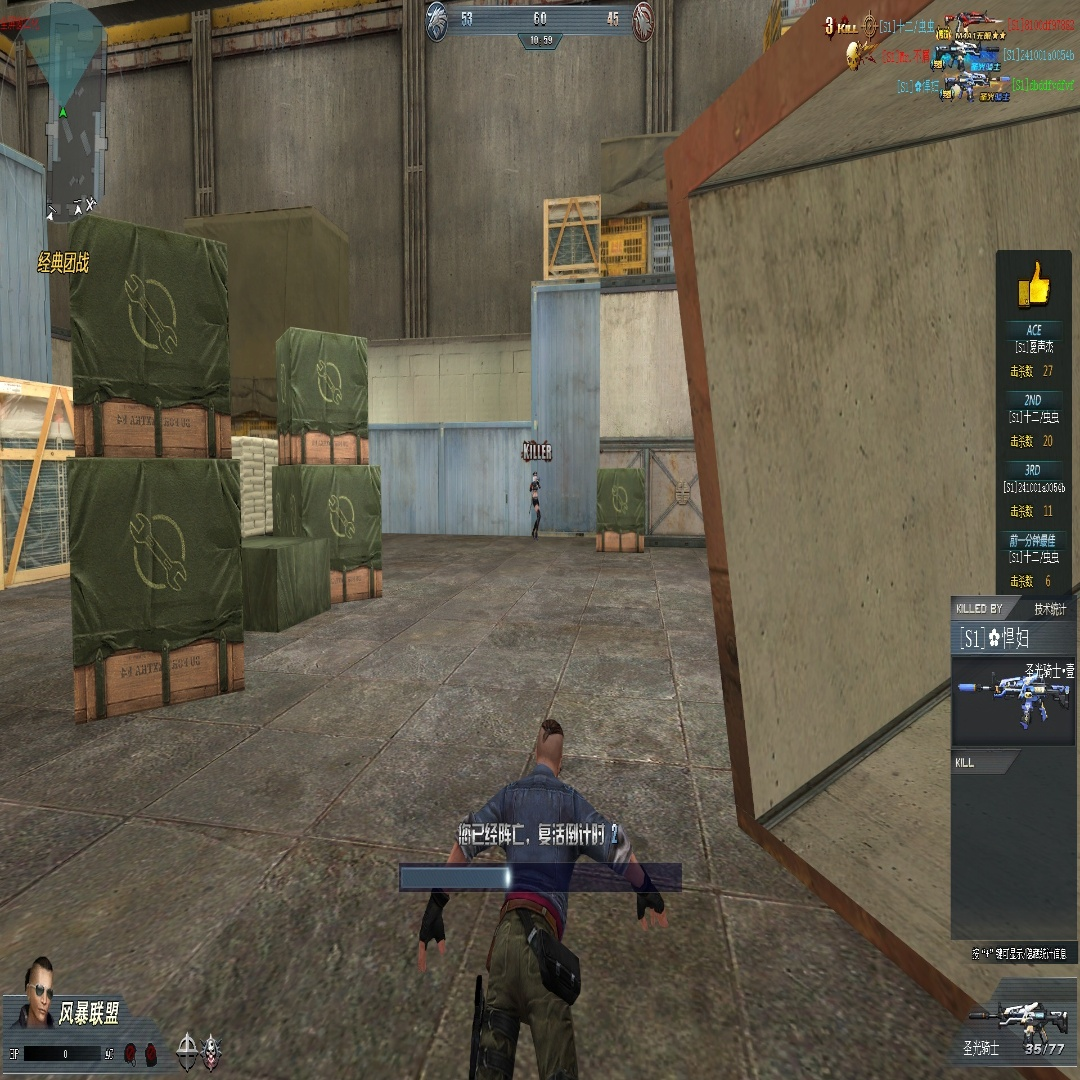ct: (529, 470, 541, 539)
head: (533, 472, 537, 482)
